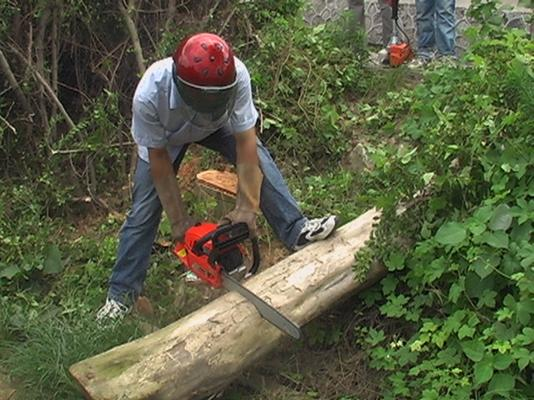person: (99, 33, 338, 331)
